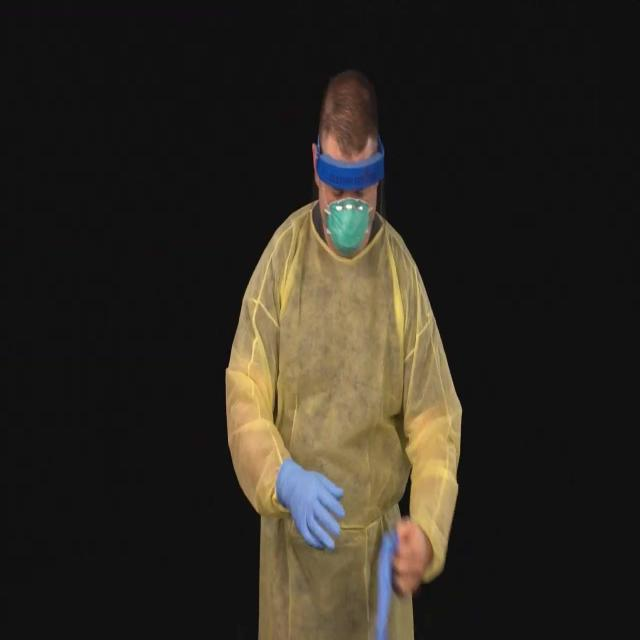gloves: (276, 466, 352, 534)
